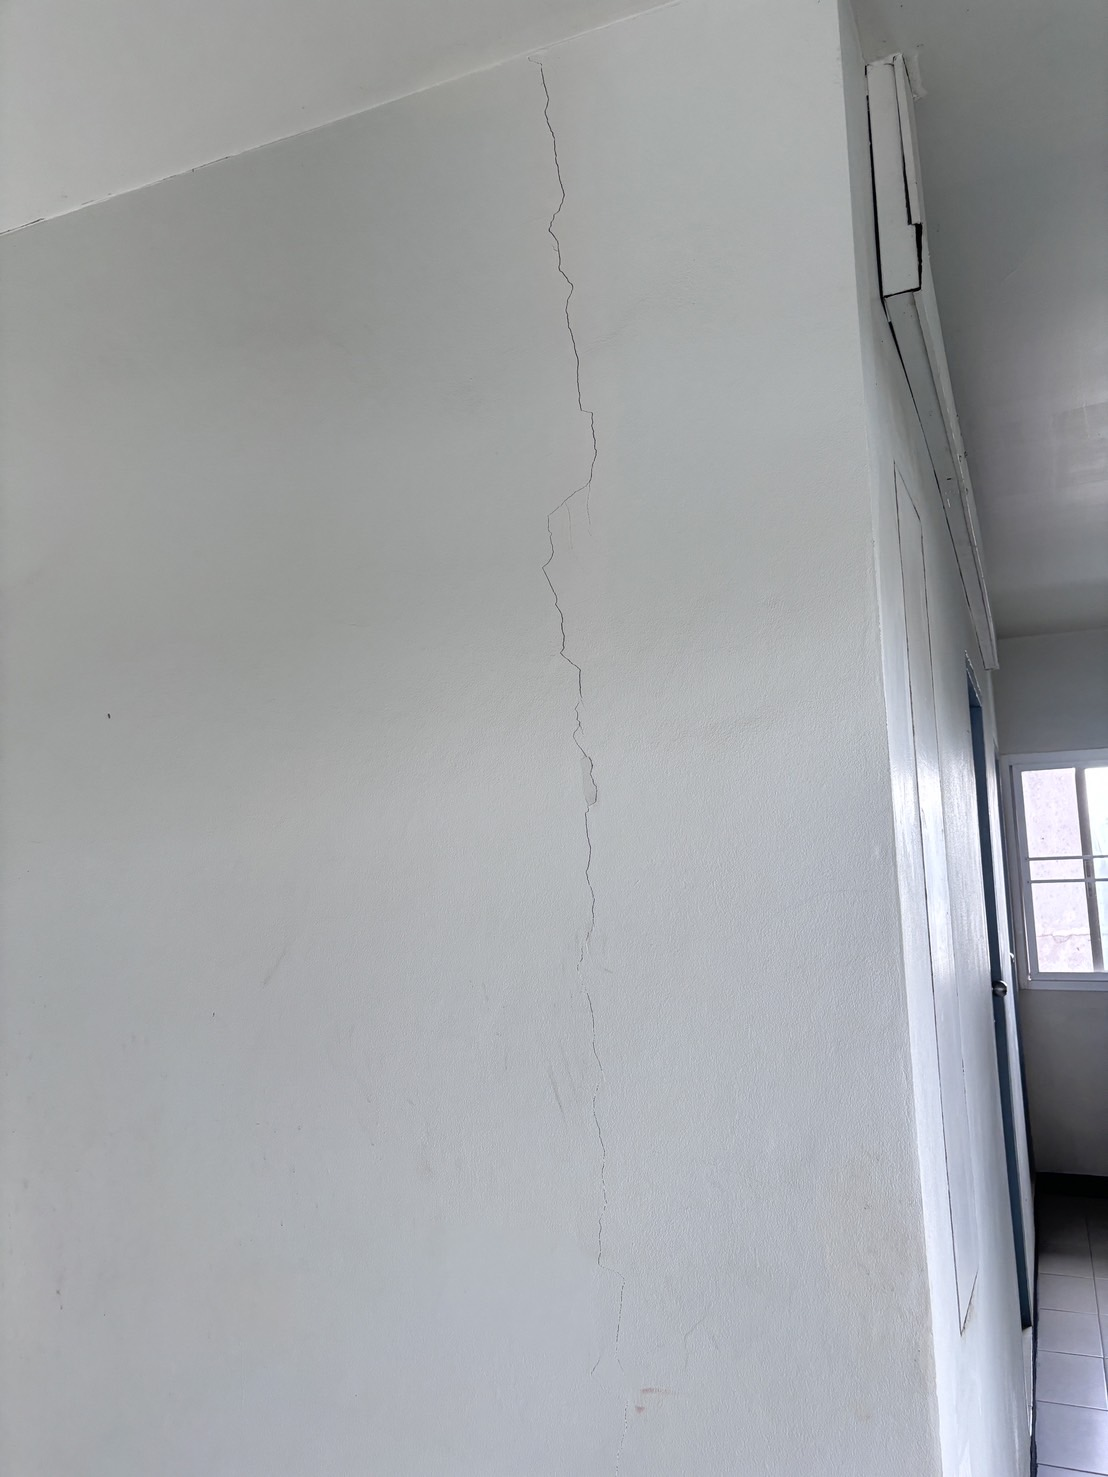Low: (400, 54, 773, 1450)
